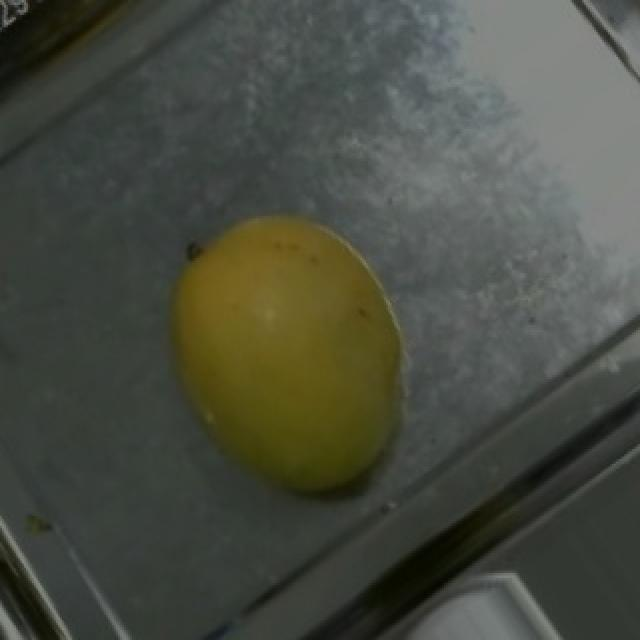fruit: (118, 142, 486, 544)
